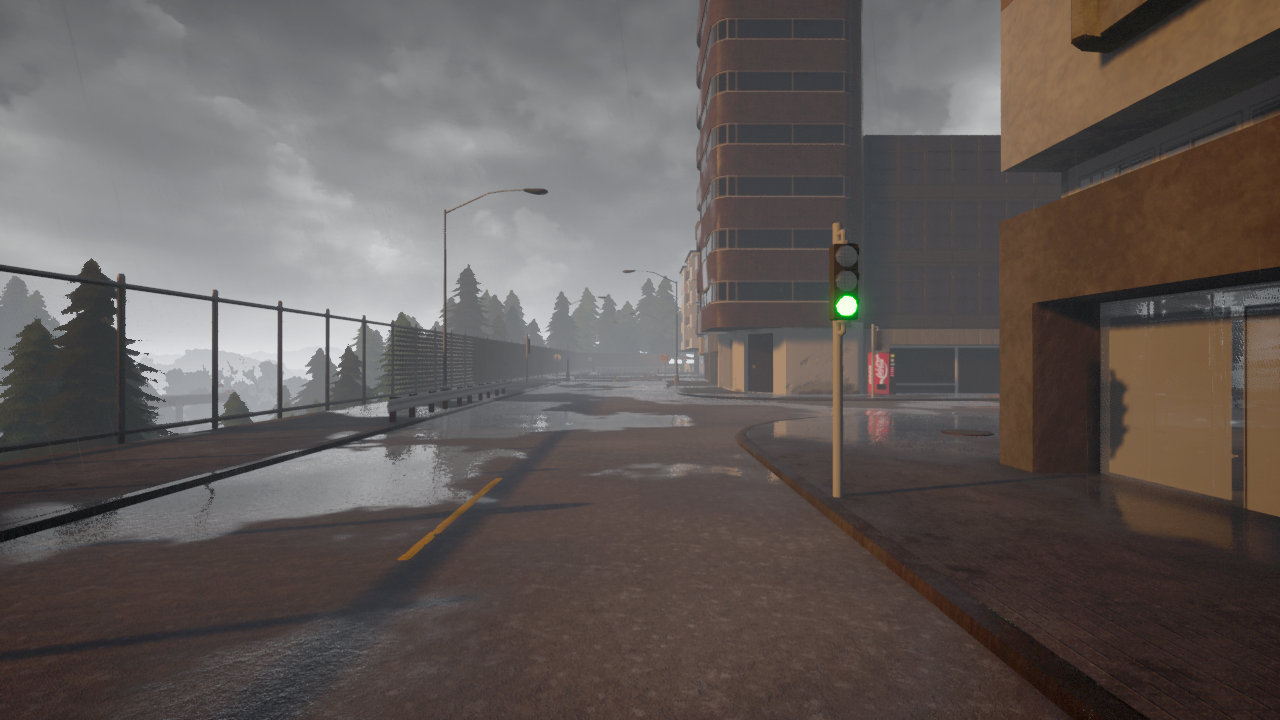green: (826, 239, 862, 321)
